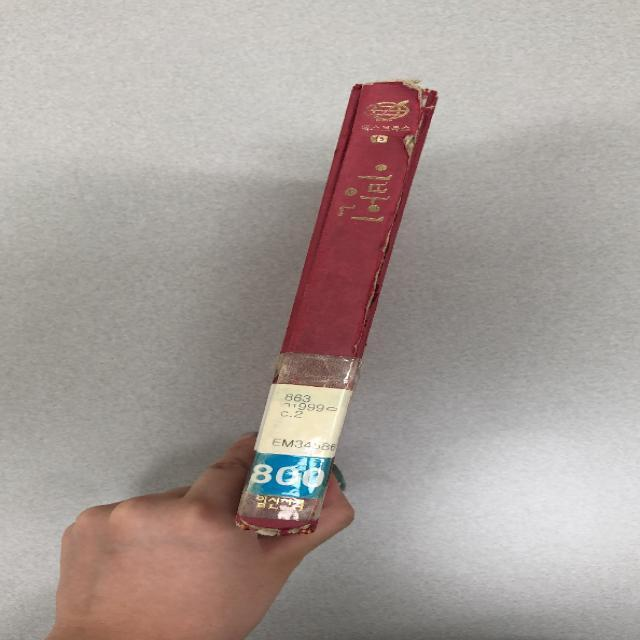Ripped: (346, 71, 440, 357), (225, 518, 316, 540)
